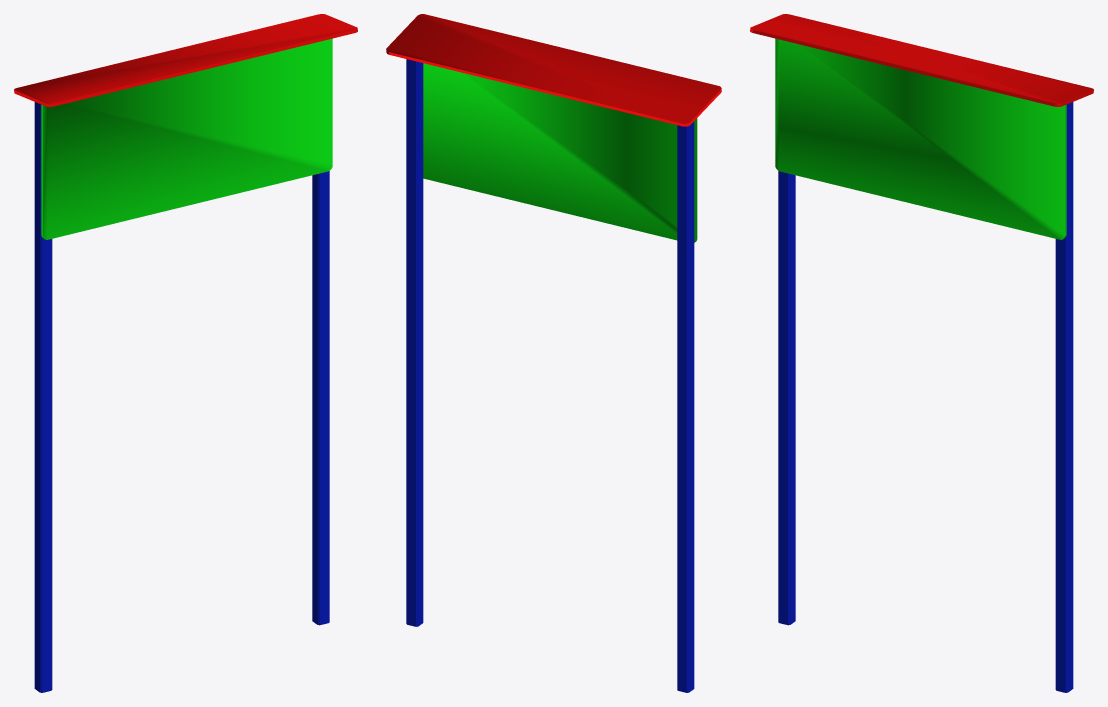
3 views of the same model, side by side, from view 1: azimuth 30°, elevation 25°; view 2: azimuth 150°, elevation 25°; view 3: azimuth 330°, elevation 25° (orthographic). The views are drawn at different scales.
Visible parts, largest first — view 1: B_56; view 2: B_56; view 3: B_56.
Part boxes in pixels (x1,y1,x2,y2): B_56: (14,14,357,692); B_56: (386,14,721,692); B_56: (750,14,1093,692).
Bounding box in the file's own units: 102 × 190 × 21.1.
